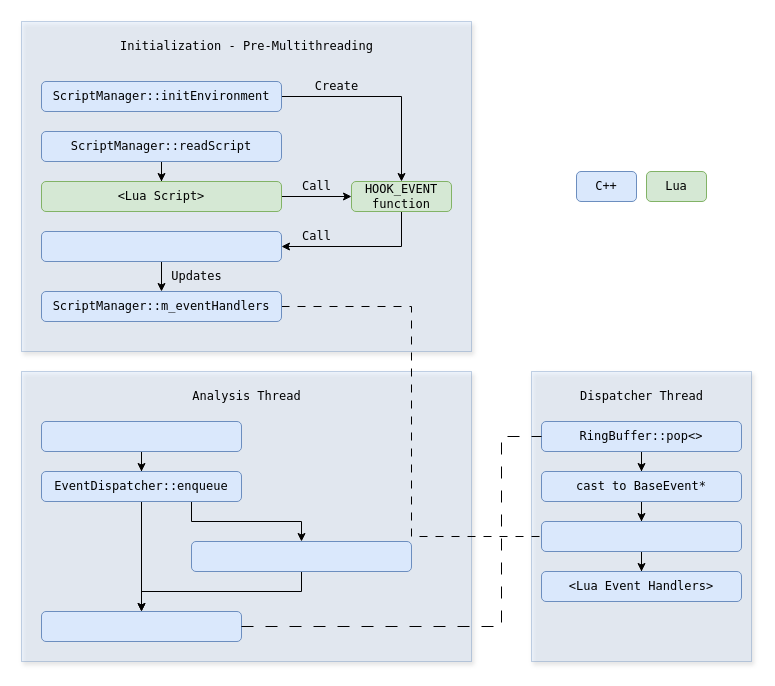
The diagram is 775 pixels wide and 686 high, and some of its shapes have lost their labels. The shapes that lost their labels are listed below. From the top down, each one's centre as x and y in pixels, then its label:
At (x=161, y=246): "ScriptManager::InsertLuaHook".
At (x=141, y=436): "IPAnalyzer::analyze".
At (x=301, y=556): "evt::meta::EventFactory<E>()".
At (x=641, y=536): "ScriptEngine::dispatch".
At (x=141, y=626): "RingBuffer::push<>".
